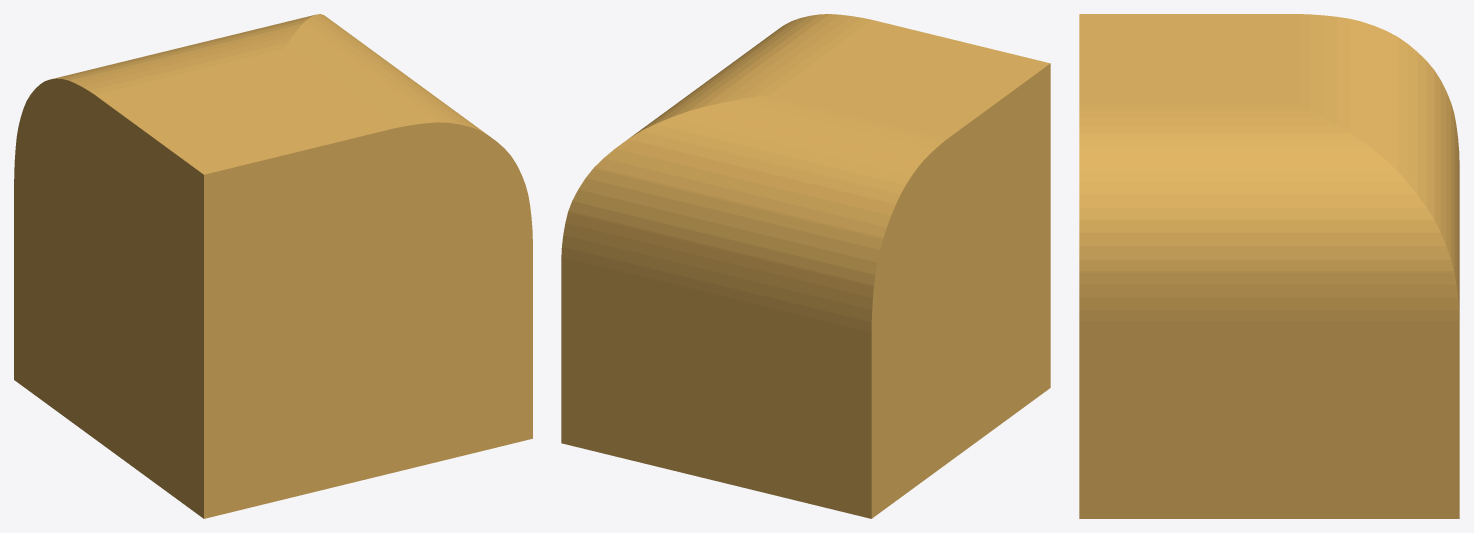
3 views of the same model, side by side, from view 1: azimuth 30°, elevation 25°; view 2: azimuth 150°, elevation 25°; view 3: azimuth 270°, elevation 25° (orthographic). The views are drawn at different scales.
Parts seen in each view (by area): view 1: Cube.002; view 2: Cube.002; view 3: Cube.002.
Part boxes in pixels (bbox=[...]): Cube.002: bbox=[14, 14, 532, 518]; Cube.002: bbox=[561, 14, 1050, 518]; Cube.002: bbox=[1079, 14, 1459, 518].
Size of the model in its own units: 100 by 100 by 100.
